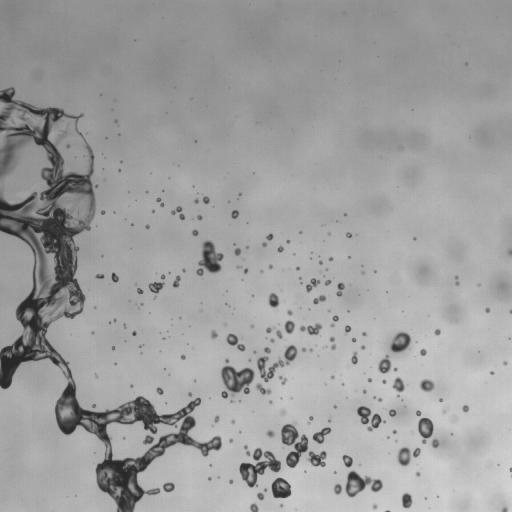droplet: (281, 423, 326, 467), (238, 446, 280, 487), (257, 345, 297, 382), (220, 358, 254, 398), (334, 470, 382, 497), (196, 239, 223, 275), (357, 406, 385, 431), (390, 331, 411, 352), (397, 447, 420, 466), (271, 477, 291, 498), (148, 275, 165, 294), (312, 427, 330, 443), (378, 355, 391, 373), (392, 377, 404, 396), (171, 206, 185, 220), (268, 292, 280, 308), (306, 278, 319, 292), (419, 379, 434, 391), (401, 492, 412, 508), (284, 320, 294, 333), (342, 455, 352, 467), (163, 482, 174, 492), (313, 295, 325, 304), (173, 276, 180, 287), (431, 438, 439, 447), (250, 503, 258, 511), (111, 273, 118, 282), (279, 375, 286, 384), (202, 196, 209, 204), (231, 210, 238, 218), (266, 326, 274, 333), (389, 409, 396, 417), (266, 430, 274, 437), (257, 492, 264, 500), (276, 329, 282, 338), (266, 233, 273, 240), (156, 387, 163, 394), (462, 405, 469, 412), (211, 330, 217, 338), (345, 325, 350, 334), (192, 229, 198, 236), (234, 248, 240, 255), (420, 349, 426, 356), (277, 246, 283, 252), (434, 329, 440, 335), (442, 407, 448, 413), (501, 505, 507, 511), (214, 415, 219, 422), (96, 274, 104, 278), (197, 214, 202, 220), (372, 503, 377, 509), (346, 232, 351, 237), (325, 280, 330, 285), (137, 288, 142, 293), (485, 307, 490, 312), (287, 310, 292, 315), (280, 410, 285, 415), (452, 417, 457, 422), (262, 242, 266, 247), (270, 338, 274, 343), (194, 199, 198, 203), (101, 210, 105, 214), (328, 257, 332, 261), (268, 265, 272, 269), (243, 269, 247, 273), (132, 331, 136, 335), (361, 345, 365, 349), (181, 355, 185, 359), (503, 361, 507, 365), (330, 375, 334, 379), (368, 378, 372, 382), (382, 379, 386, 383), (416, 472, 420, 476), (229, 479, 233, 483), (230, 420, 235, 423), (66, 144, 69, 148), (363, 332, 366, 336), (363, 389, 366, 393), (377, 398, 381, 401), (229, 438, 232, 442), (509, 467, 511, 472), (146, 225, 149, 228), (319, 261, 322, 264), (296, 267, 299, 270), (250, 324, 253, 327), (352, 338, 355, 341), (302, 348, 305, 351), (394, 368, 397, 371), (490, 371, 493, 374), (188, 392, 191, 395), (439, 398, 442, 401), (269, 400, 272, 403), (92, 404, 95, 407), (393, 430, 396, 433), (208, 477, 211, 480), (509, 309, 511, 313), (287, 240, 289, 243), (237, 266, 240, 268), (182, 269, 185, 271), (113, 319, 116, 321), (248, 359, 251, 361), (231, 399, 233, 402), (334, 405, 336, 408), (115, 120, 117, 122), (261, 270, 263, 272), (478, 283, 480, 285), (310, 349, 312, 351), (328, 419, 330, 421), (334, 471, 336, 473), (264, 489, 266, 491), (280, 504, 282, 506)
ligament: (0, 89, 221, 511), (416, 410, 433, 444), (226, 333, 245, 351), (299, 323, 321, 335), (255, 383, 271, 394), (336, 282, 344, 296), (330, 315, 338, 327), (351, 351, 357, 364), (156, 197, 164, 206), (330, 336, 335, 349), (454, 275, 459, 285), (308, 416, 313, 422), (508, 248, 511, 256), (385, 510, 389, 511)
